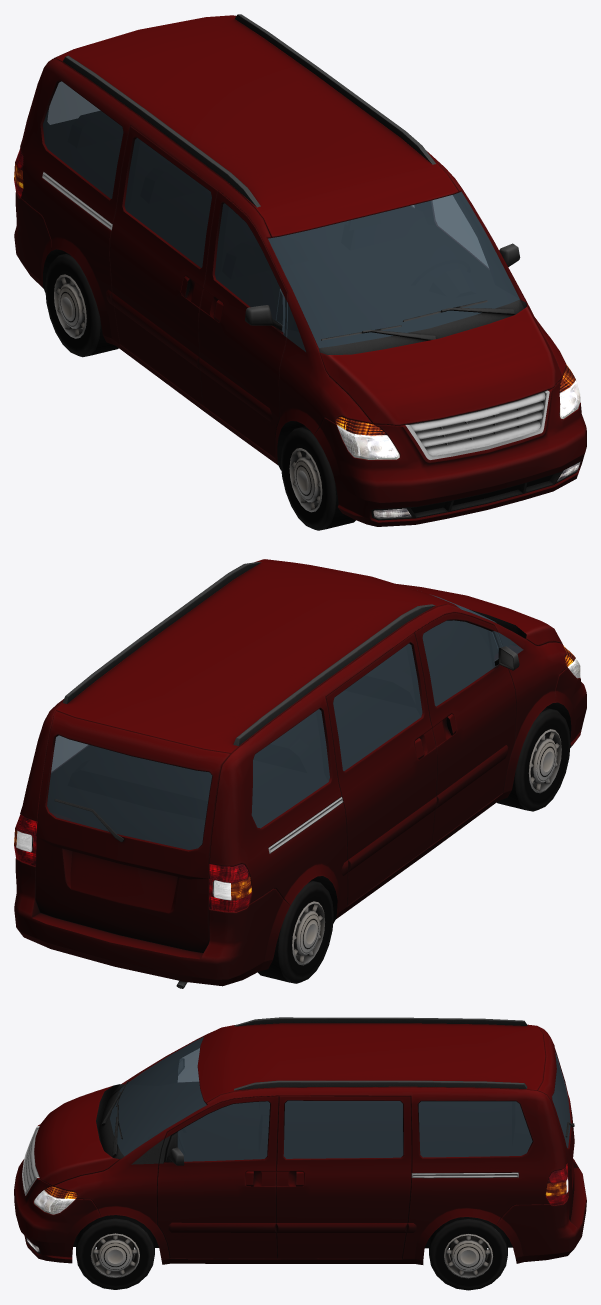
The model's file is road-van.glb.
3 views of the same model, one above another, from view 1: azimuth 30°, elevation 25°; view 2: azimuth 150°, elevation 25°; view 3: azimuth 270°, elevation 25° (orthographic). The views are drawn at different scales.
Visible parts, largest first — view 1: Body, Wheel_FR, Wheel_RR; view 2: Body, Wheel_RR, Wheel_FR; view 3: Body, Wheel_FL, Wheel_RL.
Boxes of the visible parts, x1,y1,x2,y2 form: Body: [14, 14, 586, 526]; Wheel_FR: [281, 426, 355, 530]; Wheel_RR: [45, 253, 118, 357]; Body: [14, 559, 586, 988]; Wheel_RR: [258, 880, 333, 983]; Wheel_FR: [497, 707, 570, 811]; Body: [14, 1017, 586, 1264]; Wheel_FL: [76, 1215, 154, 1289]; Wheel_RL: [429, 1217, 507, 1290].
Bounding box in the file's own units: 2.03 × 1.91 × 5.
5 materials, 4 textured.
